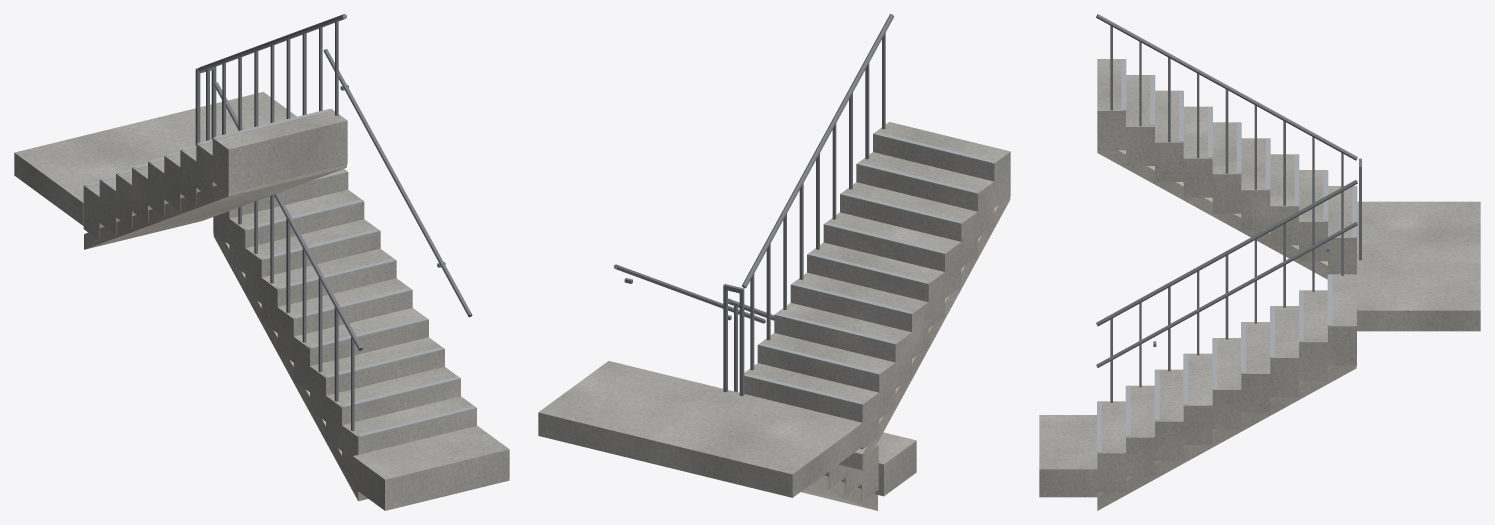
The model's file is stair_1.glb.
3 renders of one model, left to right at view 1: azimuth 30°, elevation 25°; view 2: azimuth 150°, elevation 25°; view 3: azimuth 270°, elevation 25°, orthographic. The views are drawn at different scales.
Parts seen in each view (by area): view 1: stair_1_conc_s, stair_1_steel_d, stair_1_concrete, stair_1_steel; view 2: stair_1_conc_s, stair_1_steel_d, stair_1_steel, stair_1_concrete; view 3: stair_1_conc_s, stair_1_steel_d, stair_1_concrete, stair_1_steel.
Part boxes in pixels (x1,y1,x2,y2): stair_1_conc_s: [14, 92, 509, 510]; stair_1_steel_d: [195, 14, 472, 431]; stair_1_concrete: [84, 164, 367, 501]; stair_1_steel: [85, 109, 475, 437]; stair_1_conc_s: [538, 122, 1010, 501]; stair_1_steel_d: [613, 14, 894, 396]; stair_1_steel: [744, 132, 994, 404]; stair_1_concrete: [801, 197, 1010, 510]; stair_1_conc_s: [1039, 59, 1480, 497]; stair_1_steel_d: [1096, 14, 1361, 402]; stair_1_concrete: [1097, 150, 1356, 510]; stair_1_steel: [1097, 59, 1357, 452].
Size of the model in its own units: 2.5 by 4.7 by 4.28.
Materials: 4 (2 with a texture image).
